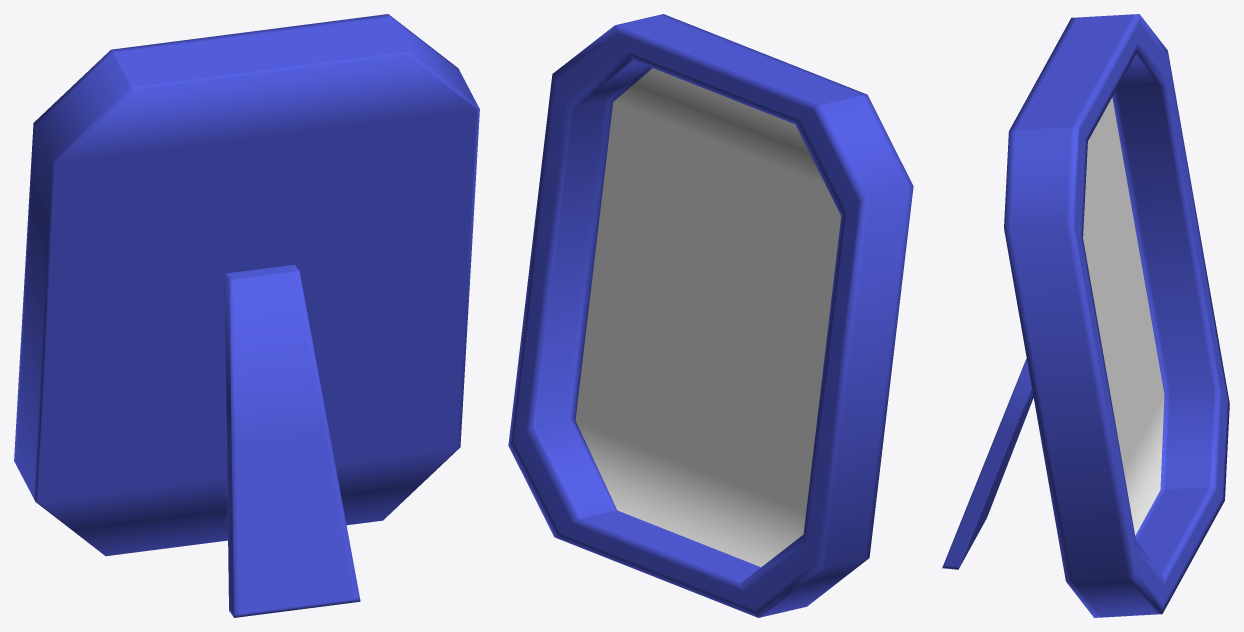
Rendered from Picture frame.fbx.
3 views of the same model, side by side, from view 1: azimuth 30°, elevation 25°; view 2: azimuth 150°, elevation 25°; view 3: azimuth 270°, elevation 25° (orthographic). The views are drawn at different scales.
Visible parts, largest first — view 1: Picture frame; view 2: Picture frame; view 3: Picture frame.
Boxes of the visible parts, x1,y1,x2,y2 form: Picture frame: (14, 14, 479, 617); Picture frame: (508, 14, 913, 617); Picture frame: (942, 14, 1229, 617).
Bounding box in the file's own units: 21.31 × 26.03 × 13.89.
